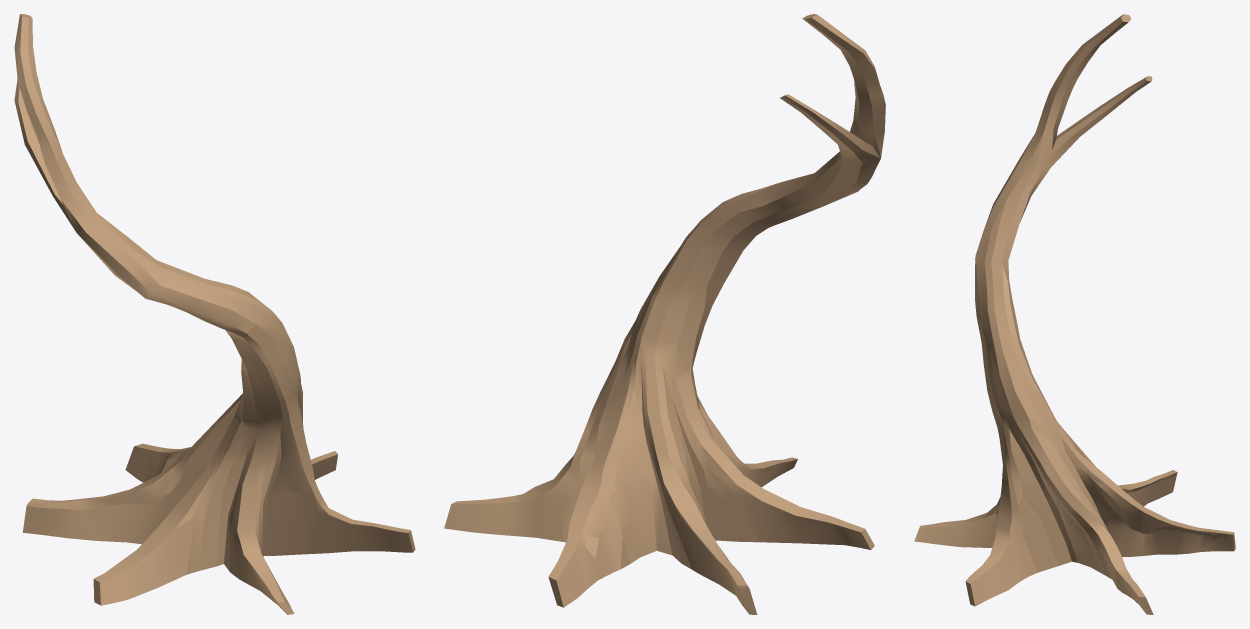
File: jungle_trunk_beach_C.fbx
3 renders of one model, left to right at view 1: azimuth 30°, elevation 25°; view 2: azimuth 150°, elevation 25°; view 3: azimuth 270°, elevation 25°, orthographic. The views are drawn at different scales.
Visible parts, largest first — view 1: jungle_trunk_beach_C; view 2: jungle_trunk_beach_C; view 3: jungle_trunk_beach_C.
Boxes of the visible parts, x1,y1,x2,y2 form: jungle_trunk_beach_C: (14, 14, 415, 614); jungle_trunk_beach_C: (444, 14, 885, 614); jungle_trunk_beach_C: (914, 14, 1235, 614).
Size of the model in its own units: 228 by 337 by 211.
